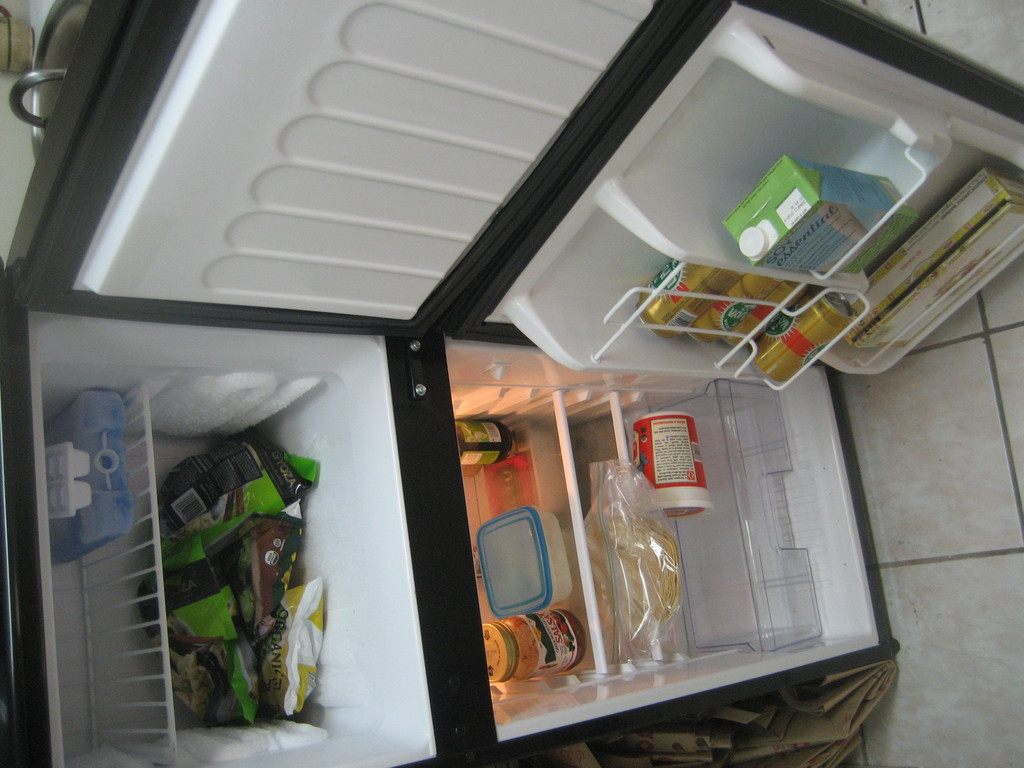refrigerator door: (542, 71, 1020, 359), (55, 42, 472, 294)
